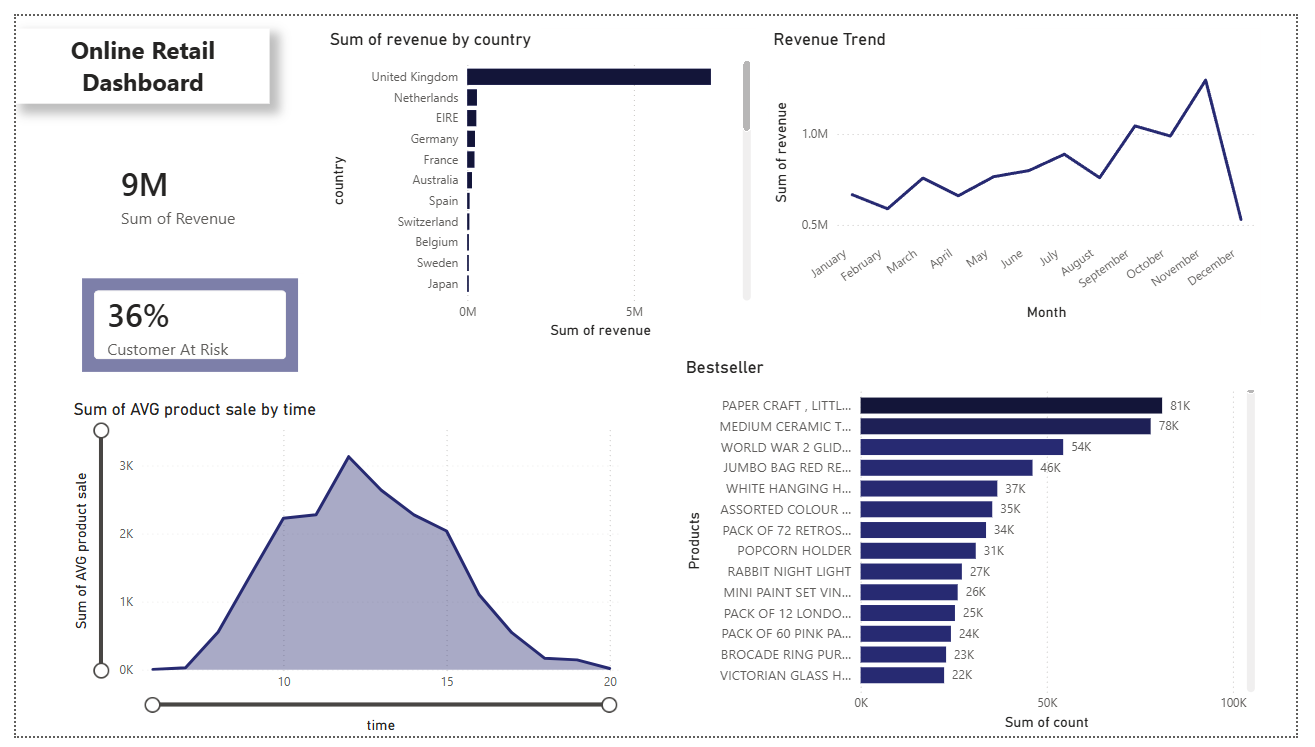

What the dashboard file says about the page in this screenshot:
{"tool":"powerbi","page":{"name":"Page 1","canvas":[1280,720],"ordinal":0},"visuals":[{"type":"clusteredBarChart","fields":{"Category":["Countries Revenue.country"],"Y":["Sum(Countries Revenue.revenue)"]},"box":[290.7,12.8,431.4,315.1],"z":0},{"type":"cardVisual","title":"Total Revenue ","fields":{"Data":["Sum(Total Revenue.Revenue)"]},"box":[52.3,50,216.3,181.4],"z":1000},{"type":"lineChart","title":"Revenue Trend ","fields":{"Category":["momgrowth.months.Variation.Date Hierarchy.Year","momgrowth.months.Variation.Date Hierarchy.Quarter","momgrowth.months.Variation.Date Hierarchy.Month","momgrowth.months.Variation.Date Hierarchy.Day"],"Y":["Sum(momgrowth.revenue)"]},"box":[752.3,12.8,491.9,296.5],"z":2000},{"type":"areaChart","fields":{"Category":["sales by time of day.Column1"],"Y":["Sum(sales by time of day.Column2)"]},"box":[52.3,382.6,555.8,338.4],"z":3000},{"type":"barChart","title":"Bestseller","fields":{"Category":["Top Products.Column1"],"Y":["Sum(Top Products.count)"]},"box":[665.1,341.9,579.1,377.9],"z":4000},{"type":"textbox","box":[0,12.8,290.7,74.4],"z":5000},{"type":"tableEx","box":[400,309.3,300,300],"z":6000},{"type":"cardVisual","fields":{"Data":["customers.% of Customer At Risk"]},"box":[65.1,255.8,225.6,104.7],"z":6001}]}

Visuals, with their boxes in screenshot pixels (x1, y1, x2, y2), scaled from the page's 1280x720 canvas onto the 1315x747 screenshot:
clusteredBarChart - Countries Revenue.country x Sum(Countries Revenue.revenue): 299, 13, 742, 340
"Total Revenue " cardVisual: 54, 52, 276, 240
"Revenue Trend " lineChart: 773, 13, 1278, 321
areaChart - sales by time of day.Column1 x Sum(sales by time of day.Column2): 54, 397, 625, 746
"Bestseller" barChart: 683, 355, 1278, 746
textbox: 0, 13, 299, 90
tableEx: 411, 321, 719, 632
cardVisual - customers.% of Customer At Risk: 67, 265, 299, 374
